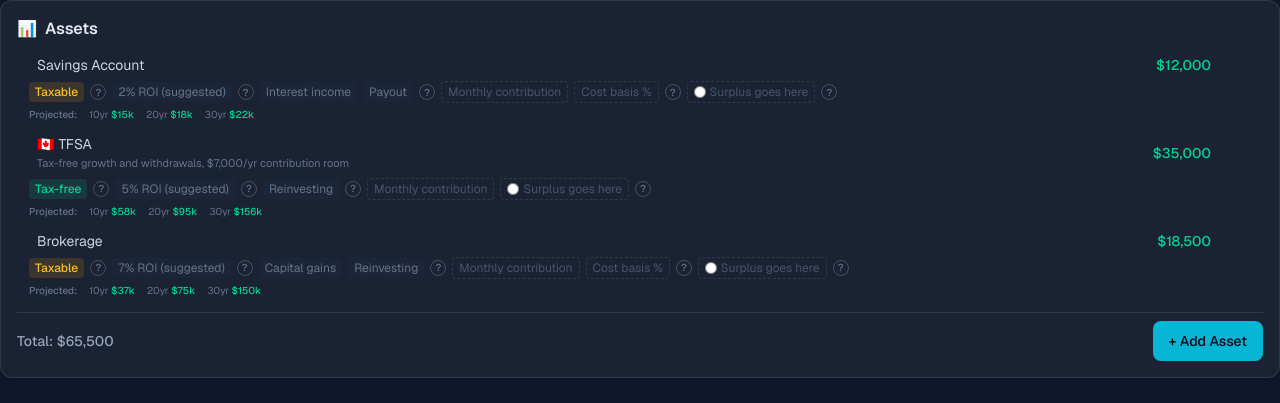
AssetEntry component › shows click-to-edit input when amount is clicked
This screenshot has width=1280, height=403.
Click the button named "Edit amount for Savings Account": click(1163, 65) top-left (1107, 51), bottom-right (1219, 79)
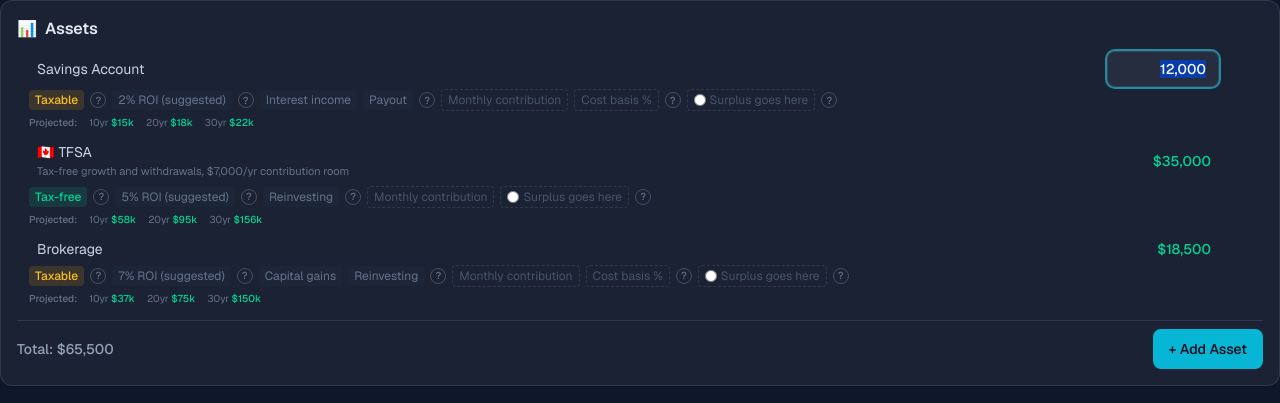
Expected: the field named "Edit amount for Savings Account" is shown, top-left (1107, 51), bottom-right (1219, 87)
